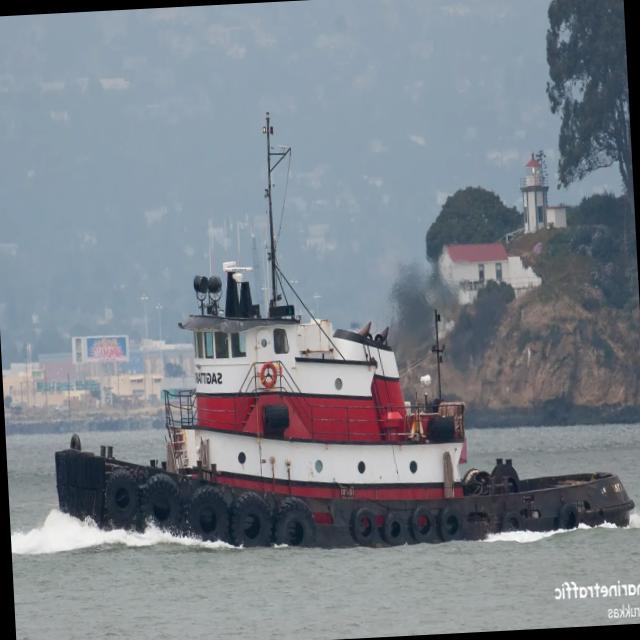Tug: (56, 112, 634, 547)
